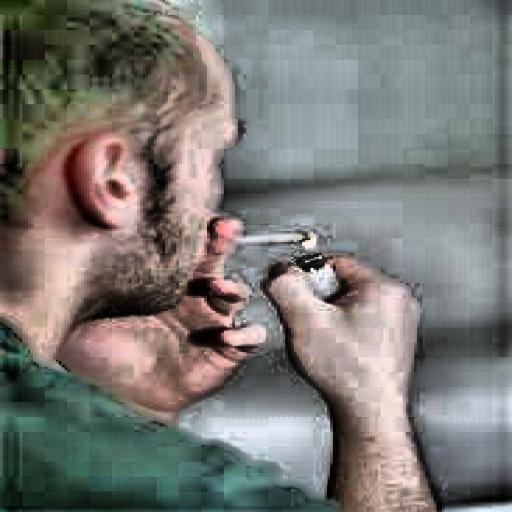fire: (294, 224, 322, 252)
